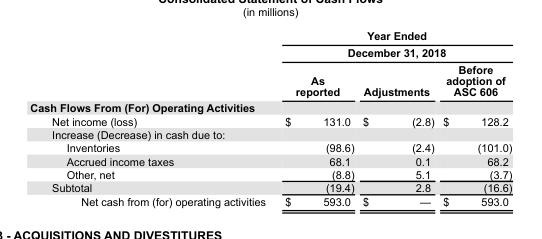table: (29, 29, 511, 207)
table column: (29, 29, 274, 207), (274, 29, 357, 207), (357, 29, 437, 207), (437, 29, 511, 207)
table column header: (29, 29, 511, 99)
table projected row header: (29, 99, 511, 114), (29, 127, 511, 140)
table row: (29, 60, 511, 99), (29, 29, 511, 60), (29, 99, 511, 114), (29, 140, 511, 154), (29, 180, 511, 194), (29, 114, 511, 127), (29, 127, 511, 140), (29, 154, 511, 167), (29, 167, 511, 180), (29, 194, 511, 207)
table spanning cell: (274, 29, 511, 60)
